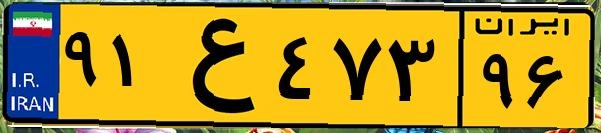1: (110, 28, 158, 98)
3: (385, 28, 445, 110)
4: (270, 28, 330, 110)
6: (525, 38, 570, 115)
7: (330, 28, 385, 110)
9: (57, 26, 110, 100), (475, 38, 525, 113)
ع: (158, 12, 270, 120)
